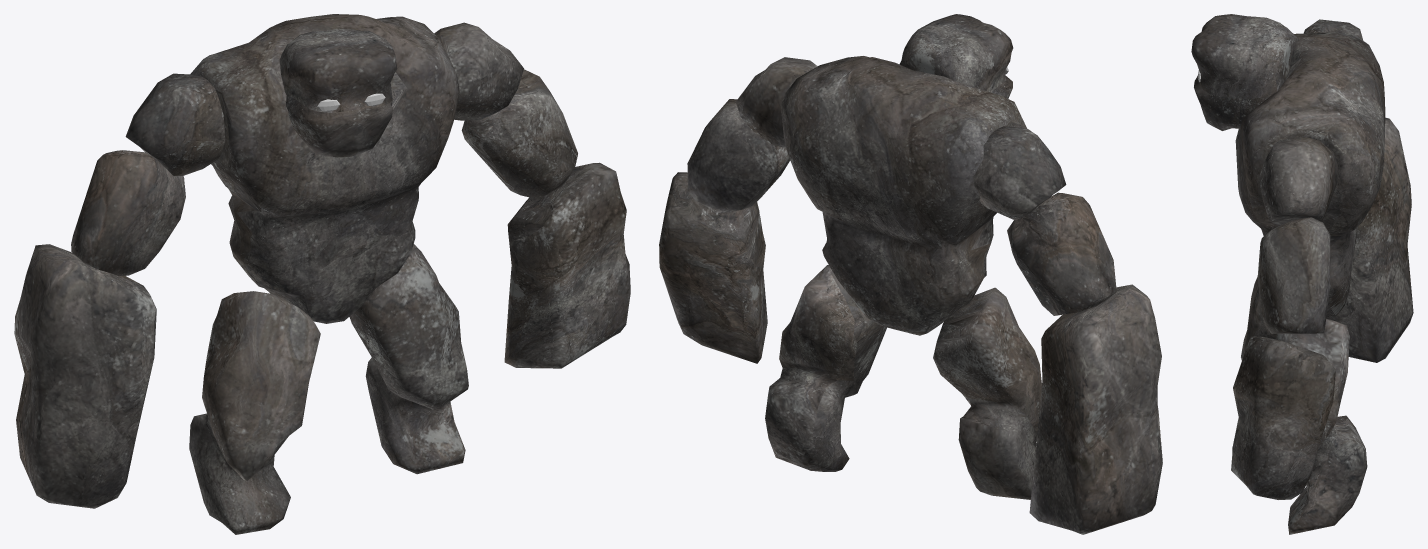
Rendered from walk_000010.obj.
The picture shows the model from 3 angles, left to right: view 1: azimuth 30°, elevation 25°; view 2: azimuth 150°, elevation 25°; view 3: azimuth 270°, elevation 25°; orthographic projection. The views are drawn at different scales.
Visible parts, largest first — view 1: hands&leg.001_ice.003, torso.001_ice.005, head.001_ice.004; view 2: hands&leg.001_ice.003, torso.001_ice.005, head.001_ice.004; view 3: hands&leg.001_ice.003, torso.001_ice.005, head.001_ice.004.
Boxes of the visible parts, left/top/right/bottom form: hands&leg.001_ice.003: left=14, top=22, right=630, bottom=534; torso.001_ice.005: left=190, top=14, right=459, bottom=323; head.001_ice.004: left=279, top=28, right=397, bottom=157; hands&leg.001_ice.003: left=659, top=57, right=1162, bottom=534; torso.001_ice.005: left=780, top=56, right=1027, bottom=335; head.001_ice.004: left=899, top=14, right=1013, bottom=98; hands&leg.001_ice.003: left=1231, top=19, right=1413, bottom=534; torso.001_ice.005: left=1235, top=30, right=1385, bottom=319; head.001_ice.004: left=1191, top=14, right=1298, bottom=130.
Bounding box in the file's own units: 11.77 × 9.56 × 4.34.
2 materials, 1 textured.
